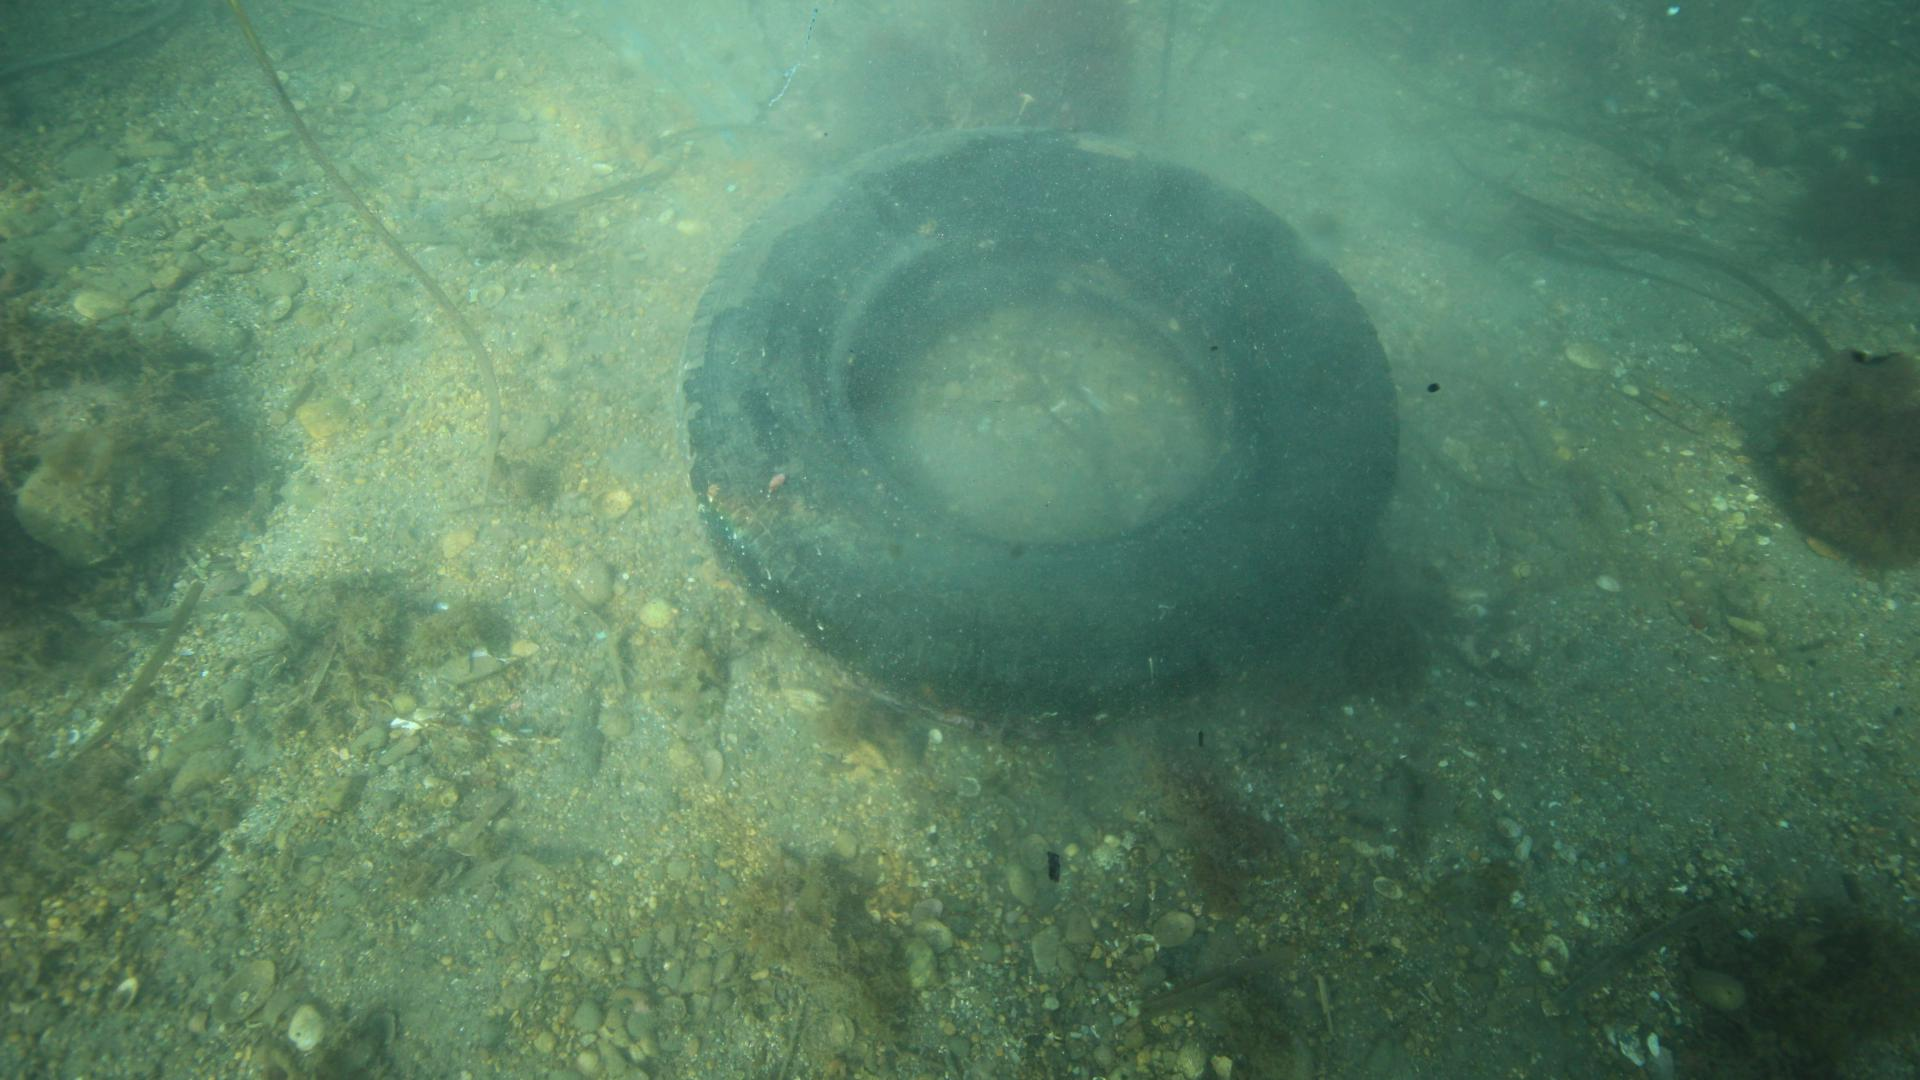tire: (678, 127, 1398, 723)
